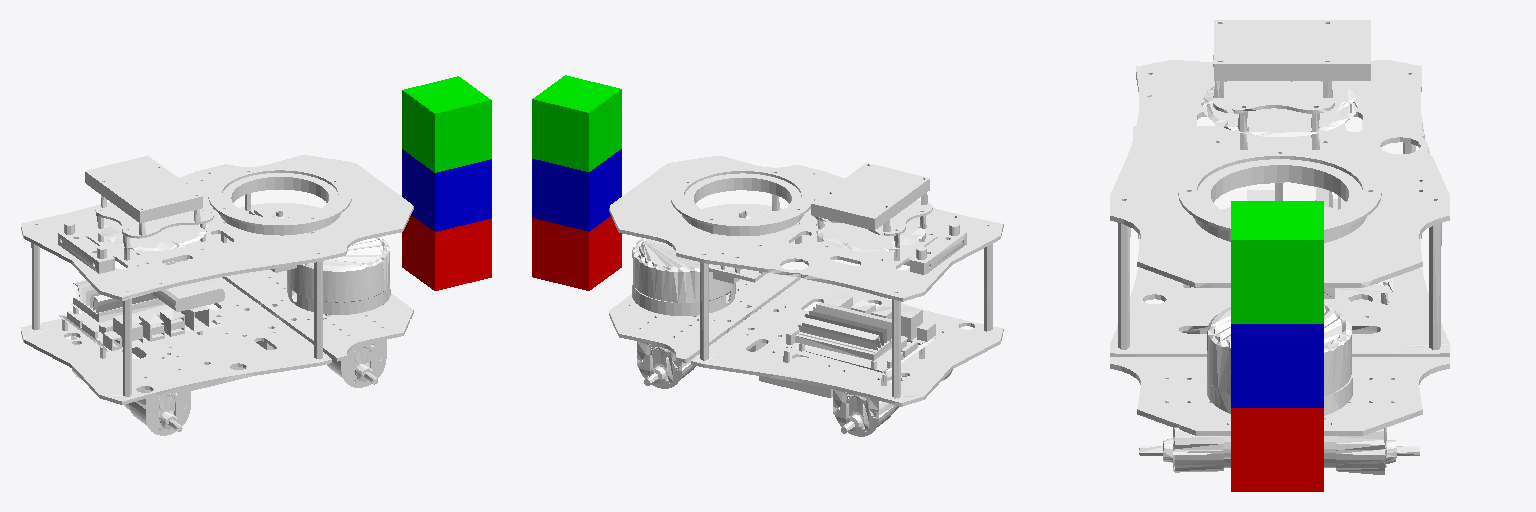
robot.urdf — CyberNaviRobot:
<?xml version="1.0" encoding="utf-8"?>
<robot
  name="CyberNaviRobot">
  <link
    name="base_link">
    <inertial>
      <origin
        xyz="-0.0126930979005275 0.00191328701604972 0.138027242309266"
        rpy="0 0 0" />
      <mass
        value="1.02316767990512" />
      <inertia
        ixx="0.00139586884914313"
        ixy="-1.1634425915606E-06"
        ixz="2.08900696909113E-08"
        iyy="0.00163816424060367"
        iyz="1.3906877128818E-07"
        izz="0.00212627787861002" />
    </inertial>
    <visual>
      <origin
        xyz="-0.14 -0.0925 0"
        rpy="0 0 0" />
      <geometry>
        <mesh
          filename="package://mycar_description/meshes/base_link.STL" />
      </geometry>
      <material
        name="">
        <color
          rgba="1 1 1 1" />
      </material>
    </visual>
    <collision>
      <origin
        xyz="0 0 0"
        rpy="0 0 0" />
      <geometry>
        <mesh
          filename="package://mycar_description/meshes/base_link.STL" />
      </geometry>
    </collision>
  </link>
  <link
    name="left_front_wheel_link">
    <inertial>
      <origin
        xyz="-3.0979511909876E-06 0.0173322020637727 4.43766253017258E-06"
        rpy="0 0 0" />
      <mass
        value="0.0503853041294886" />
      <inertia
        ixx="5.77203859894131E-06"
        ixy="-6.39490308551869E-10"
        ixz="-6.55101507497994E-10"
        iyy="7.74120907350755E-06"
        iyz="1.14467480632514E-09"
        izz="5.77288622221224E-06" />
    </inertial>
    <visual>
      <origin
        xyz="0 0 0"
        rpy="0 0 0" />
      <geometry>
        <mesh
          filename="package://mycar_description/meshes/left_front_wheel_link.STL" />
      </geometry>
      <material
        name="">
        <color
          rgba="1 1 1 1" />
      </material>
    </visual>
    <collision>
      <origin
        xyz="0 0 0"
        rpy="0 0 0" />
      <geometry>
        <mesh
          filename="package://mycar_description/meshes/left_front_wheel_link.STL" />
      </geometry>
    </collision>
  </link>
  <joint
    name="left_front_wheel_joint"
    type="continuous">
    <origin
      xyz="0.094976 0.076703 0.038001"
      rpy="0 0 0" />
    <parent
      link="base_link" />
    <child
      link="left_front_wheel_link" />
    <axis
      xyz="0 1 0" />
  </joint>
  <link
    name="left_rear_wheel_link">
    <inertial>
      <origin
        xyz="-3.06188346035907E-06 0.017331873242395 -5.84140984641324E-06"
        rpy="0 0 0" />
      <mass
        value="0.0503852022031433" />
      <inertia
        ixx="5.7719914844331E-06"
        ixy="-6.47591418647473E-10"
        ixz="6.3996728285628E-10"
        iyy="7.74122667602425E-06"
        iyz="-1.13209672720901E-09"
        izz="5.77285855433357E-06" />
    </inertial>
    <visual>
      <origin
        xyz="0 0 0"
        rpy="0 0 0" />
      <geometry>
        <mesh
          filename="package://mycar_description/meshes/left_rear_wheel_link.STL" />
      </geometry>
      <material
        name="">
        <color
          rgba="1 1 1 1" />
      </material>
    </visual>
    <collision>
      <origin
        xyz="0 0 0"
        rpy="0 0 0" />
      <geometry>
        <mesh
          filename="package://mycar_description/meshes/left_rear_wheel_link.STL" />
      </geometry>
    </collision>
  </link>
  <joint
    name="left_rear_wheel_joint"
    type="continuous">
    <origin
      xyz="-0.078024 0.076703 0.038001"
      rpy="0 0 0" />
    <parent
      link="base_link" />
    <child
      link="left_rear_wheel_link" />
    <axis
      xyz="0 1 0" />
  </joint>
  <link
    name="right_front_wheel_link">
    <inertial>
      <origin
        xyz="3.06240360546661E-06 -0.0173318735620233 -5.84117647387666E-06"
        rpy="0 0 0" />
      <mass
        value="0.0503852021760132" />
      <inertia
        ixx="5.77199099297903E-06"
        ixy="-6.47832070333766E-10"
        ixz="-6.39570296767498E-10"
        iyy="7.74122684098967E-06"
        iyz="1.13229861557678E-09"
        izz="5.7728593340892E-06" />
    </inertial>
    <visual>
      <origin
        xyz="0 0 0"
        rpy="0 0 0" />
      <geometry>
        <mesh
          filename="package://mycar_description/meshes/right_front_wheel_link.STL" />
      </geometry>
      <material
        name="">
        <color
          rgba="1 1 1 1" />
      </material>
    </visual>
    <collision>
      <origin
        xyz="0 0 0"
        rpy="0 0 0" />
      <geometry>
        <mesh
          filename="package://mycar_description/meshes/right_front_wheel_link.STL" />
      </geometry>
    </collision>
  </link>
  <joint
    name="right_front_wheel_joint"
    type="continuous">
    <origin
      xyz="0.094976 -0.075297 0.038001"
      rpy="0 0 0" />
    <parent
      link="base_link" />
    <child
      link="right_front_wheel_link" />
    <axis
      xyz="0 1 0" />
  </joint>
  <link
    name="right_rear_wheel_link">
    <inertial>
      <origin
        xyz="3.09795119093903E-06 -0.0173322020637727 4.43766253057504E-06"
        rpy="0 0 0" />
      <mass
        value="0.0503853041294886" />
      <inertia
        ixx="5.77203859894127E-06"
        ixy="-6.39490308545873E-10"
        ixz="6.55101507484353E-10"
        iyy="7.7412090735075E-06"
        iyz="-1.14467480634659E-09"
        izz="5.77288622221223E-06" />
    </inertial>
    <visual>
      <origin
        xyz="0 0 0"
        rpy="0 0 0" />
      <geometry>
        <mesh
          filename="package://mycar_description/meshes/right_rear_wheel_link.STL" />
      </geometry>
      <material
        name="">
        <color
          rgba="1 1 1 1" />
      </material>
    </visual>
    <collision>
      <origin
        xyz="0 0 0"
        rpy="0 0 0" />
      <geometry>
        <mesh
          filename="package://mycar_description/meshes/right_rear_wheel_link.STL" />
      </geometry>
    </collision>
  </link>
  <joint
    name="right_rear_wheel_joint"
    type="continuous">
    <origin
      xyz="-0.078024 -0.075297 0.038001"
      rpy="0 0 0" />
    <parent
      link="base_link" />
    <child
      link="right_rear_wheel_link" />
    <axis
      xyz="0 1 0" />
  </joint>

 <!-- Laser -->
  <link name="laser">
    <inertial>
      <mass value="0.1" />
      <origin xyz="0 0 0" rpy="0 0 0" />
      <inertia ixx="0.001" ixy="0.0" ixz="0.0" iyy="0.001" iyz="0.0" izz="0.001" />
    </inertial>
    <visual>
      <origin xyz="0 0 0" rpy="0 0 0" />
      <geometry>
        <box size="0.05 0.05 0.05" />
      </geometry>
      <material name="red">
        <color rgba="1 0 0 1" />
      </material>
    </visual>
    <collision>
      <origin xyz="0 0 0" rpy="0 0 0" />
      <geometry>
        <box size="0.05 0.05 0.05" />
      </geometry>
    </collision>
  </link>
  <joint name="laser_joint" type="fixed">
    <parent link="base_link" />
    <child link="laser" />
    <origin xyz="0.2 0 0.1" rpy="0 0 0" />
  </joint>

  <!-- Camera -->
  <link name="camera">
    <inertial>
      <mass value="0.1" />
      <origin xyz="0 0 0" rpy="0 0 0" />
      <inertia ixx="0.001" ixy="0.0" ixz="0.0" iyy="0.001" iyz="0.0" izz="0.001" />
    </inertial>
    <visual>
      <origin xyz="0 0 0" rpy="0 0 0" />
      <geometry>
        <box size="0.05 0.05 0.05" />
      </geometry>
      <material name="blue">
        <color rgba="0 0 1 1" />
      </material>
    </visual>
    <collision>
      <origin xyz="0 0 0" rpy="0 0 0" />
      <geometry>
        <box size="0.05 0.05 0.05" />
      </geometry>
    </collision>
  </link>
  <joint name="camera_joint" type="fixed">
    <parent link="base_link" />
    <child link="camera" />
    <origin xyz="0.2 0 0.15" rpy="0 0 0" />
  </joint>

  <!-- Depth Camera -->
  <link name="depth_camera">
    <inertial>
      <mass value="0.1" />
      <origin xyz="0 0 0" rpy="0 0 0" />
      <inertia ixx="0.001" ixy="0.0" ixz="0.0" iyy="0.001" iyz="0.0" izz="0.001" />
    </inertial>
    <visual>
      <origin xyz="0 0 0" rpy="0 0 0" />
      <geometry>
        <box size="0.05 0.05 0.05" />
      </geometry>
      <material name="green">
        <color rgba="0 1 0 1" />
      </material>
    </visual>
    <collision>
      <origin xyz="0 0 0" rpy="0 0 0" />
      <geometry>
        <box size="0.05 0.05 0.05" />
      </geometry>
    </collision>
  </link>
  <joint name="depth_camera_joint" type="fixed">
    <parent link="base_link" />
    <child link="depth_camera" />
    <origin xyz="0.2 0 0.2" rpy="0 0 0" />
  </joint>


<!-- 运动控制插件 -->
<gazebo>
    <plugin
        filename="ignition-gazebo-diff-drive-system"
        name="ignition::gazebo::systems::DiffDrive">
        <left_joint>left_front_wheel_joint</left_joint>
        <left_joint>left_rear_wheel_joint</left_joint>
        <right_joint>right_front_wheel_joint</right_joint>
        <right_joint>right_rear_wheel_joint</right_joint>
        <wheel_separation>0.4</wheel_separation>
        <wheel_radius>0.0415</wheel_radius>
        <odom_publish_frequency>50</odom_publish_frequency>
        <frame_id>odom</frame_id>
        <child_frame_id>base_link</child_frame_id>
        <topic>/cmd_vel</topic>
        <max_linear_acceleration>10</max_linear_acceleration>
        <min_linear_acceleration>-10</min_linear_acceleration>
        <max_angular_acceleration>10</max_angular_acceleration>
        <min_angular_acceleration>-10</min_angular_acceleration>
        <max_linear_velocity>0.5</max_linear_velocity>
        <min_linear_velocity>-0.5</min_linear_velocity>
        <max_angular_velocity>1</max_angular_velocity>
        <min_angular_velocity>-1</min_angular_velocity>
      </plugin>
  </gazebo>
  <!-- 关节状态发布 -->
  <gazebo>
    <plugin filename="ignition-gazebo-joint-state-publisher-system"
      name="ignition::gazebo::systems::JointStatePublisher">
    </plugin>
  </gazebo>



  <!-- 添加传感器插件 -->

<gazebo>
    <plugin
      filename="ignition-gazebo-sensors-system"
      name="ignition::gazebo::systems::Sensors">
      <render_engine>ogre2</render_engine>
    </plugin>
  </gazebo>

 <!-- 雷达传感器 -->
  <gazebo reference="laser">
    <sensor name='gpu_lidar' type='gpu_lidar'>
      <topic>scan</topic>
      <update_rate>30</update_rate>
      <lidar>
        <scan>
          <horizontal>
            <samples>640</samples>
            <resolution>1</resolution>
            <min_angle>-3.1415926</min_angle>
            <max_angle>3.1415926</max_angle>
          </horizontal>
          <vertical>
            <samples>16</samples>
            <resolution>1</resolution>
            <min_angle>-0.261799</min_angle>
            <max_angle>0.261799</max_angle>
          </vertical>
        </scan>
        <range>
          <min>0.08</min>
          <max>10.0</max>
          <resolution>0.01</resolution>
        </range>
      </lidar>
      <alwaysOn>1</alwaysOn>
      <visualize>true</visualize>
      <ignition_frame_id>base_link</ignition_frame_id>
    </sensor>
  </gazebo>

  <!-- 单目相机 -->

  <gazebo reference="camera" >
    <sensor name="cam_link" type="camera">
      <update_rate>10.0</update_rate>
      <always_on>true</always_on>
      <ignition_frame_id>camera</ignition_frame_id>
      <pose>0 0 0 0 0 0</pose>
      <topic>/image_raw</topic>
      <camera name="my_camera">
        <horizontal_fov>1.3962634</horizontal_fov>
        <image>
           <width>600</width>
           <height>600</height>
           <format>R8G8B8</format>
        </image>
        <clip>
          <near>0.02</near>
          <far>300</far>
        </clip>
      </camera>
    </sensor>
  </gazebo>

  <!-- 深度相机 -->

  <gazebo reference="camera">
    <sensor name="depth_camera" type="depth_camera">
          <update_rate>10</update_rate>
          <topic>depth_camera</topic>
          <camera>
            <horizontal_fov>1.05</horizontal_fov>
            <image>
              <width>256</width>
              <height>256</height>
              <format>R_FLOAT32</format>
            </image>
            <clip>
              <near>0.1</near>
              <far>10.0</far>
            </clip>
          </camera>
          <alwaysOn>1</alwaysOn>
          <ignition_frame_id>base_link</ignition_frame_id>
      </sensor>
  </gazebo>


</robot>

--- Render facts (derived) ---
3 views of the same robot in one strip: view 1: azimuth 30°, elevation 25°; view 2: azimuth 150°, elevation 25°; view 3: azimuth 270°, elevation 25° (orthographic).
Robot: CyberNaviRobot — 8 links, 7 joints (4 continuous, 3 fixed); root link base_link; default pose: every joint at zero.
Visible links, largest first — view 1: base_link, depth_camera, laser, camera; view 2: base_link, depth_camera, camera, laser; view 3: base_link, depth_camera, laser, camera.
Link boxes in pixels (x1=…): base_link: x1=20, y1=155, x2=413, y2=435; depth_camera: x1=402, y1=76, x2=491, y2=172; laser: x1=402, y1=215, x2=491, y2=290; camera: x1=402, y1=149, x2=491, y2=231; base_link: x1=609, y1=156, x2=1003, y2=436; depth_camera: x1=532, y1=75, x2=621, y2=171; camera: x1=532, y1=149, x2=621, y2=231; laser: x1=532, y1=216, x2=621, y2=290; base_link: x1=1110, y1=20, x2=1449, y2=474; depth_camera: x1=1231, y1=201, x2=1323, y2=323; laser: x1=1231, y1=408, x2=1323, y2=491; camera: x1=1231, y1=324, x2=1323, y2=407.
Size in the robot's own frame: 0.365 by 0.184 by 0.1994 metres.
Meshes: 5 distinct files referenced, 1 mesh visuals loaded (1 binary STL); not drawn: 4 (reference not matched to a file when rendering).